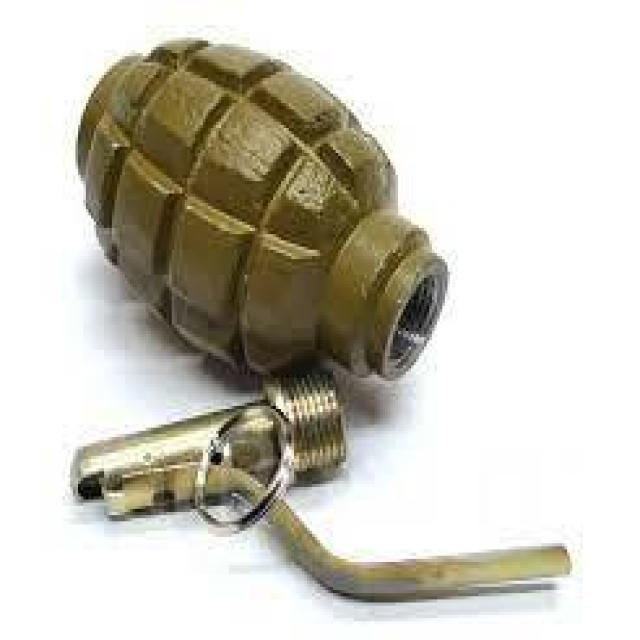grenade: (70, 37, 452, 381)
